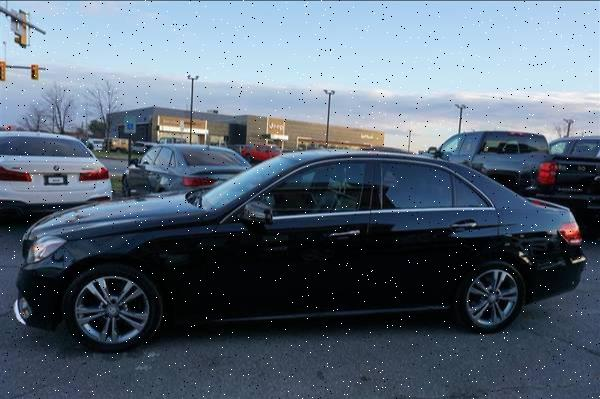Front_Bumper: (14, 244, 83, 329)
Front_Fender: (70, 224, 219, 323)
Front_Left_Door: (212, 210, 369, 322)
Front_Left_Window: (226, 161, 375, 222)
Front_Windshield: (196, 155, 293, 210)
Hood: (25, 187, 220, 242)
Left_Headlight: (26, 236, 68, 266)
Left_Taillight: (560, 220, 580, 244)
Rear_Bumper: (531, 254, 585, 303)
Rear_Fender: (493, 206, 581, 268)
Rear_Left_Door: (370, 209, 495, 311)
Rear_Left_Window: (374, 161, 498, 212)
Roof: (220, 147, 538, 222)
Wheel: (72, 265, 170, 354), (460, 261, 529, 332)
